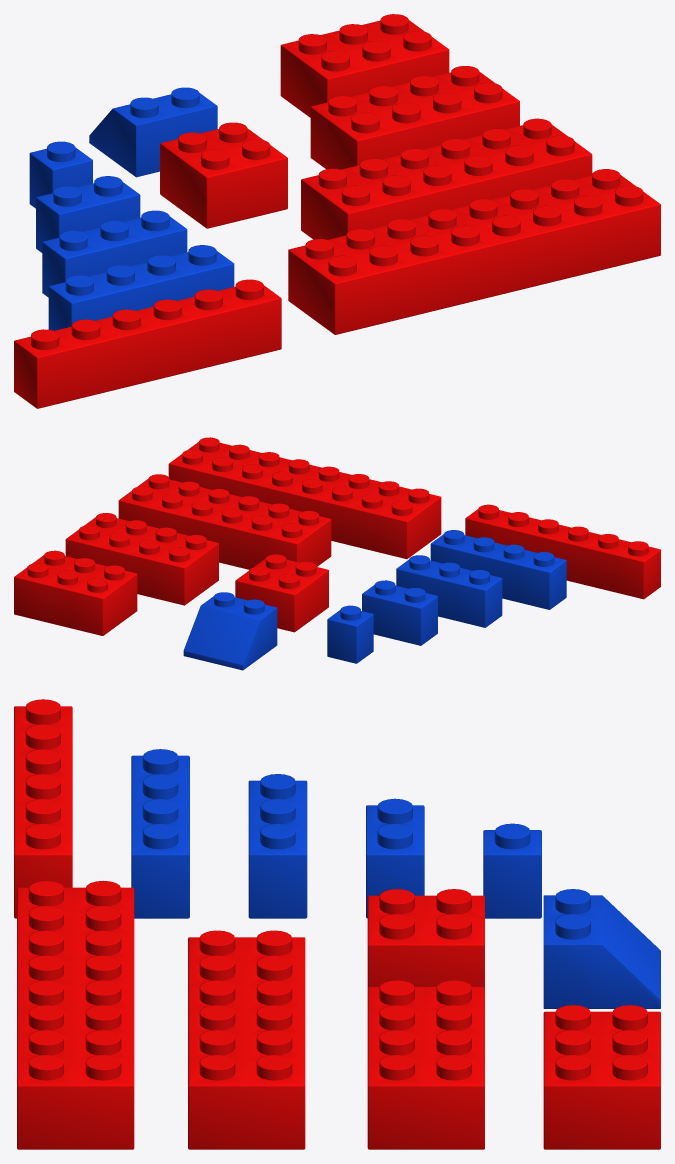
File: Lego-Set-1.fbx
3 views of the same model, one above another, from view 1: azimuth 30°, elevation 25°; view 2: azimuth 150°, elevation 25°; view 3: azimuth 270°, elevation 25° (orthographic). The views are drawn at different scales.
Visible parts, largest first — view 1: Main Cube.010, Main Cube.007, Main Cube.009, Main Cube, Top cercels.010, Main Cube.002, Main Cube.001, Top cercels.009, Main Cube.006, Main Cube.008, Main Cube.005, Top cercels (+9 smaller); view 2: Main Cube.010, Main Cube.009, Main Cube.007, Main Cube, Main Cube.001, Main Cube.008, Main Cube.006, Top cercels.010, Main Cube.005, Main Cube.002, Top cercels.009, Main Cube.003 (+9 smaller); view 3: Main Cube.010, Main Cube.009, Main Cube, Top cercels.010, Main Cube.001, Main Cube.008, Top cercels.009, Main Cube.002, Main Cube.006, Top cercels, Main Cube.007, Main Cube.005 (+10 smaller).
Boxes of the visible parts, x1,y1,x2,y2 form: Main Cube.010: (288, 175, 660, 334); Main Cube.007: (14, 285, 281, 408); Main Cube.009: (301, 124, 592, 239); Main Cube: (310, 71, 519, 169); Top cercels.010: (305, 169, 643, 276); Main Cube.002: (160, 128, 287, 228); Main Cube.001: (280, 20, 449, 117); Top cercels.009: (318, 118, 574, 205); Main Cube.006: (48, 251, 234, 330); Main Cube.008: (89, 93, 217, 177); Main Cube.005: (42, 216, 187, 297); Top cercels: (328, 66, 502, 133); Main Cube.010: (168, 442, 441, 559); Main Cube.009: (118, 478, 331, 569); Main Cube.007: (465, 509, 660, 599); Main Cube: (65, 517, 218, 605); Main Cube.001: (14, 555, 137, 635); Main Cube.008: (183, 596, 277, 670); Main Cube.006: (430, 534, 566, 609); Top cercels.010: (182, 437, 429, 515); Main Cube.005: (396, 559, 502, 627); Main Cube.002: (235, 558, 328, 632); Top cercels.009: (132, 474, 318, 537); Main Cube.003: (362, 585, 437, 645); Main Cube.010: (17, 887, 134, 1149); Main Cube.009: (188, 937, 305, 1149); Main Cube: (367, 987, 484, 1149); Top cercels.010: (28, 880, 121, 1080); Main Cube.001: (543, 1011, 660, 1149); Main Cube.008: (543, 895, 660, 1008); Top cercels.009: (199, 930, 292, 1080); Main Cube.002: (367, 895, 484, 987); Main Cube.006: (131, 755, 189, 918); Top cercels: (379, 980, 471, 1080); Main Cube.007: (14, 706, 72, 918); Main Cube.005: (248, 780, 307, 918).
Bounding box in the file's own units: 12.11 × 1.12 × 8.71.
